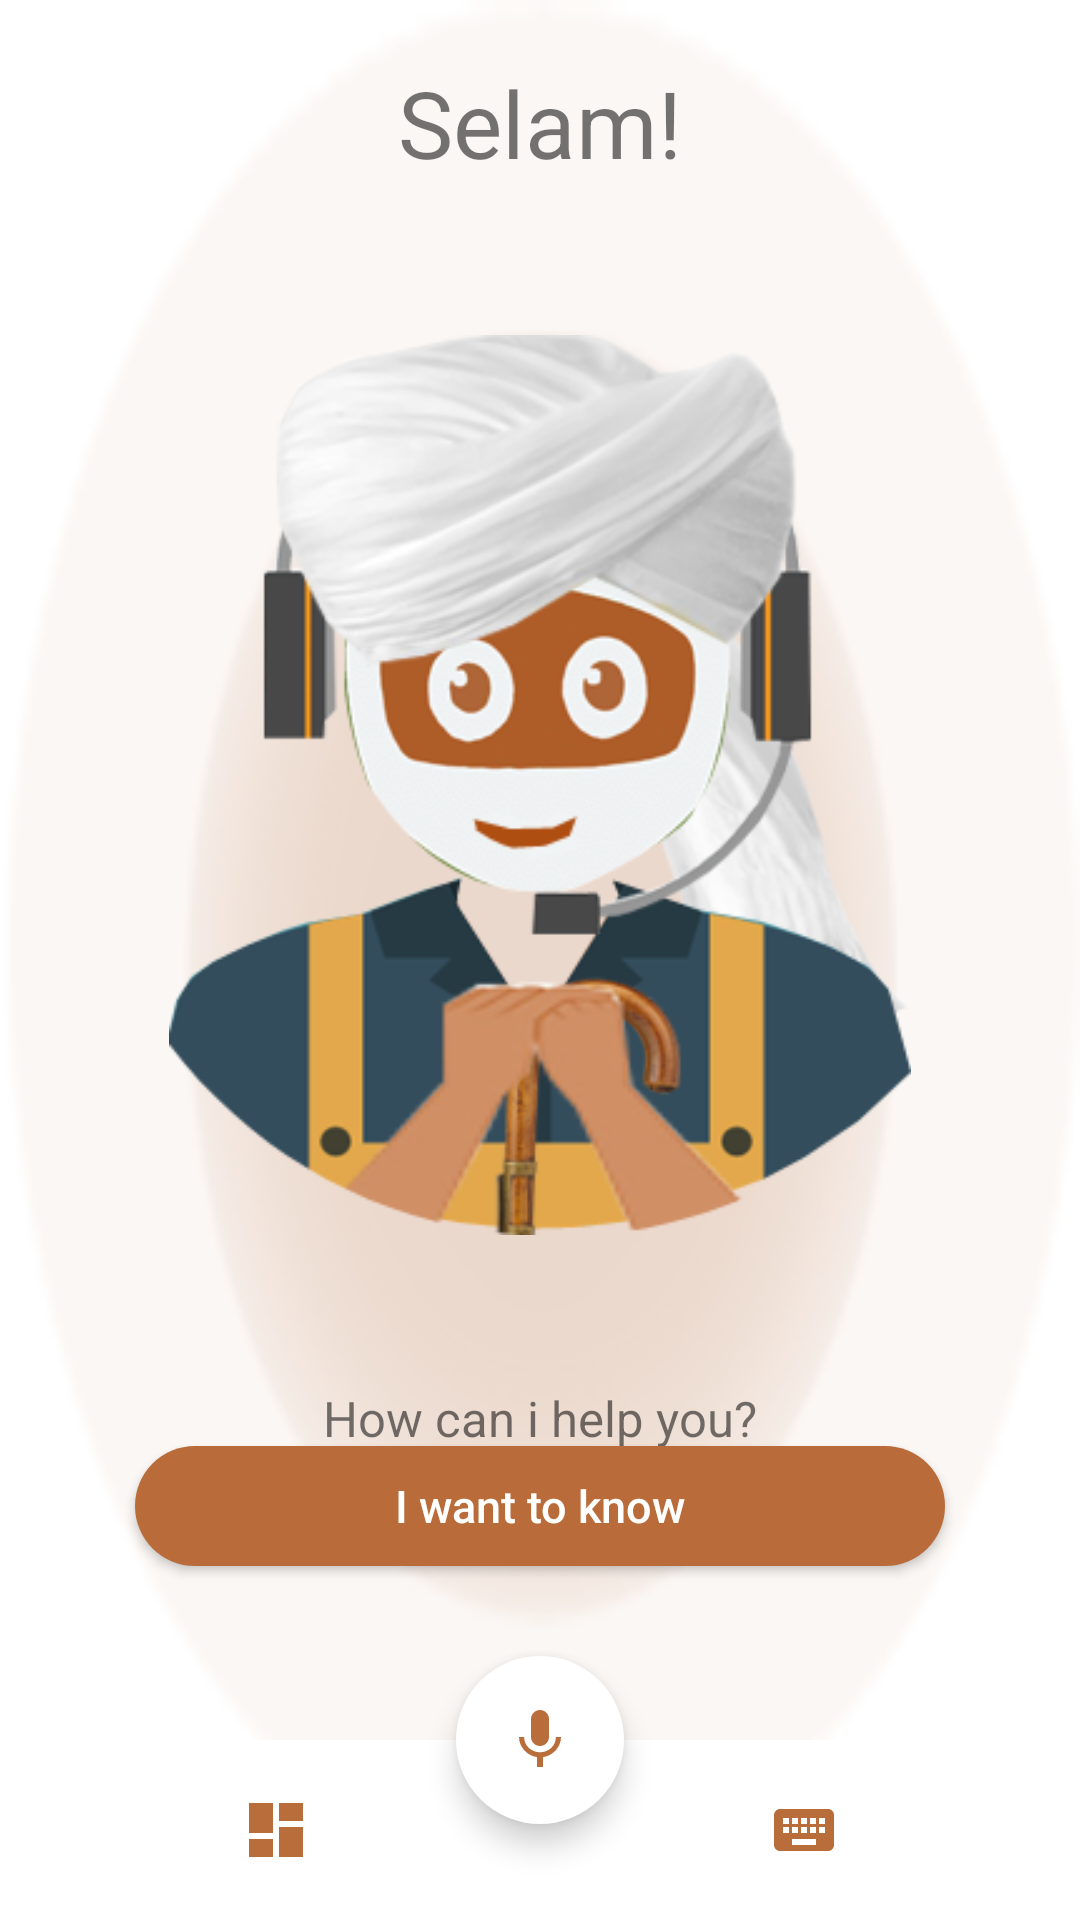

Where icons sit on this 1080×1920 app screen, as (x1,y1,x2,y2):
dashboard: (249,1803,303,1857)
keyboard: (774,1809,834,1851)
mic: (456,1656,624,1824)
